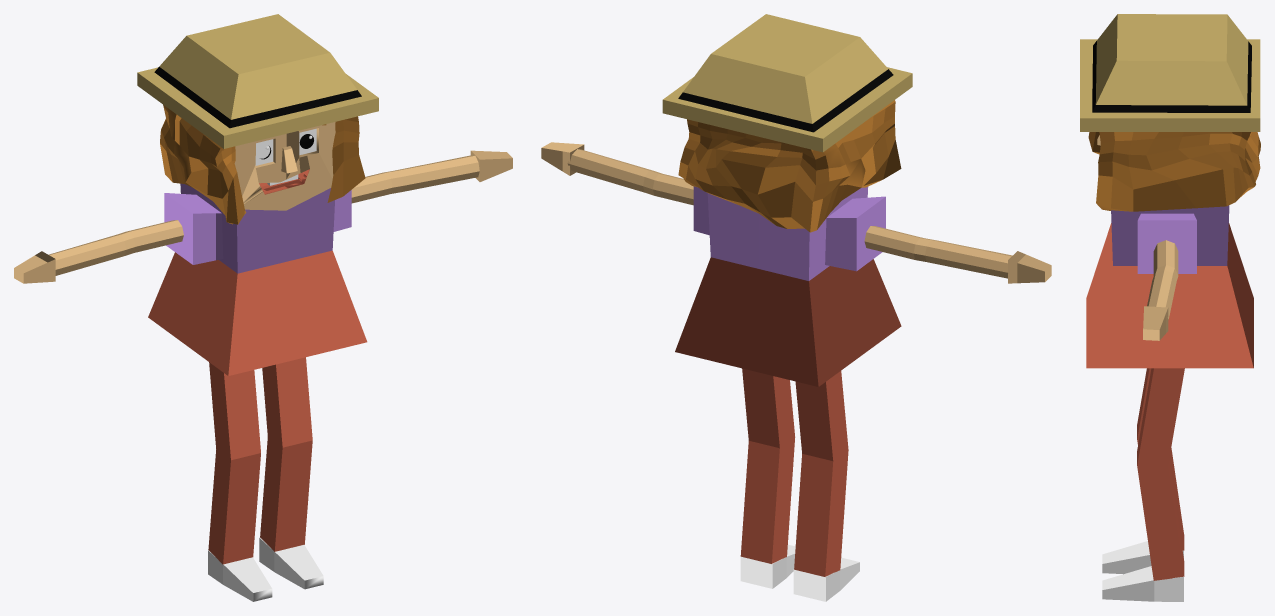
The model's file is tpose.fbx.
3 renders of one model, left to right at view 1: azimuth 30°, elevation 25°; view 2: azimuth 150°, elevation 25°; view 3: azimuth 270°, elevation 25°, orthographic. The views are drawn at different scales.
Parts seen in each view (by area): view 1: body, hoettop, leg_l, leg_r, haar, hoet_base, mouw_l, arm_r_1, arm_r, voet_r, voet_l, hand_l (+2 smaller); view 2: body, haar, hoettop, leg_l, leg_r, hoet_base, arm_r_1, mouw_l, arm_r, voet_l, voet_r, hand_l (+2 smaller); view 3: body, hoettop, haar, leg_r, hoet_base, mouw_r, voet_r, arm_r, voet_l, hand_r, leg_l.
Boxes of the visible parts, bbox=[...] form: body: bbox=[148, 122, 367, 375]; hoettop: bbox=[154, 14, 361, 128]; leg_l: bbox=[208, 362, 260, 564]; leg_r: bbox=[260, 357, 312, 551]; haar: bbox=[160, 104, 365, 224]; hoet_base: bbox=[137, 67, 378, 148]; mouw_l: bbox=[164, 193, 223, 264]; arm_r_1: bbox=[48, 220, 183, 275]; arm_r: bbox=[351, 155, 479, 203]; voet_r: bbox=[259, 537, 323, 589]; voet_l: bbox=[208, 550, 272, 601]; hand_l: bbox=[14, 251, 55, 283]; body: bbox=[675, 187, 901, 386]; haar: bbox=[678, 100, 901, 232]; hoettop: bbox=[678, 14, 893, 132]; leg_l: bbox=[794, 371, 848, 576]; leg_r: bbox=[740, 368, 795, 563]; hoet_base: bbox=[662, 67, 912, 152]; arm_r_1: bbox=[864, 226, 1012, 278]; mouw_l: bbox=[825, 196, 885, 271]; arm_r: bbox=[567, 149, 693, 205]; voet_l: bbox=[793, 557, 859, 601]; voet_r: bbox=[740, 544, 795, 588]; hand_l: bbox=[1008, 251, 1051, 283]; body: bbox=[1086, 205, 1253, 368]; hoettop: bbox=[1092, 14, 1251, 112]; haar: bbox=[1088, 132, 1260, 211]; leg_r: bbox=[1137, 368, 1184, 580]; hoet_base: bbox=[1080, 39, 1260, 131]; mouw_r: bbox=[1137, 213, 1196, 273]; voet_r: bbox=[1102, 566, 1183, 601]; arm_r: bbox=[1147, 240, 1178, 321]; voet_l: bbox=[1102, 541, 1183, 574]; hand_r: bbox=[1143, 306, 1168, 340]; leg_l: bbox=[1137, 368, 1184, 550].
Bounding box in the file's own units: 148 × 151 × 45.47.
